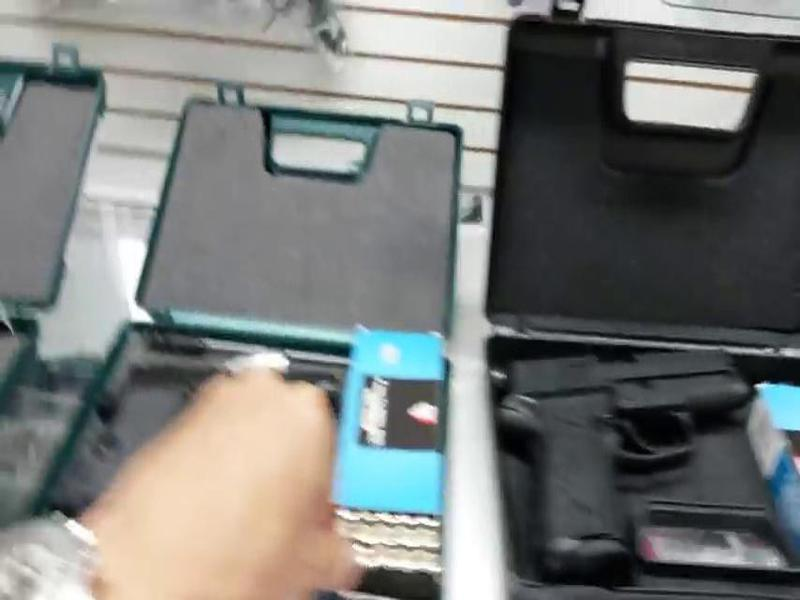Pistola: (489, 323, 757, 566)
